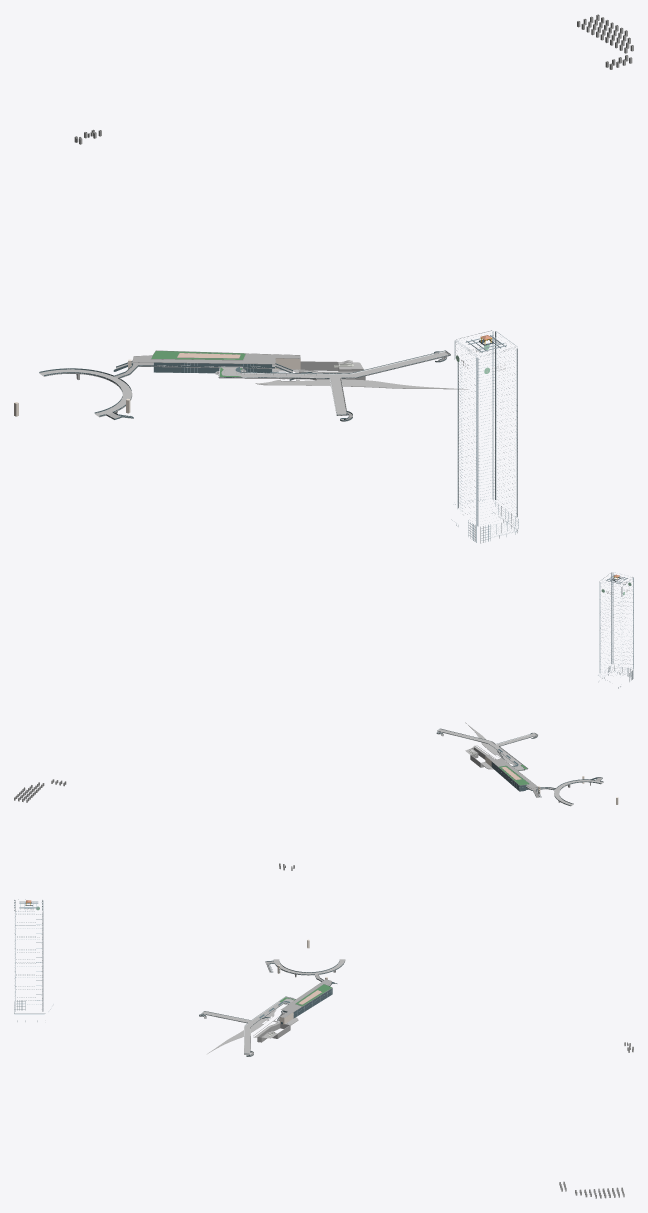
Rendered from lujiazui-17.glb.
3 renders of one model, top to bottom at view 1: azimuth 30°, elevation 25°; view 2: azimuth 150°, elevation 25°; view 3: azimuth 270°, elevation 25°, orthographic. The views are drawn at different scales.
Parts seen in each view (by area): view 1: source_2997_Mat3d66-1303573-2119-613_part0, source_3029_Mat3d66-1303573-289-6904_part0, source_3023_Mat3d66-1303573-326-7287_part0, source_3030_Mat3d66-1303573-306-9553_part0, source_3017_Mat3d66-1303573-310-455_part0, source_3020_Mat3d66-1303573-306-9553_part0, source_3027_不锈刚_part0; view 2: source_2997_Mat3d66-1303573-2119-613_part0, source_3023_Mat3d66-1303573-326-7287_part0, source_3029_Mat3d66-1303573-289-6904_part0, source_3030_Mat3d66-1303573-306-9553_part0; view 3: source_2997_Mat3d66-1303573-2119-613_part0, source_3023_Mat3d66-1303573-326-7287_part0, source_3029_Mat3d66-1303573-289-6904_part0, source_3030_Mat3d66-1303573-306-9553_part0.
Part boxes in pixels (x1,y1,x2,y2): source_2997_Mat3d66-1303573-2119-613_part0: (451,330,518,543); source_3029_Mat3d66-1303573-289-6904_part0: (39,350,448,421); source_3023_Mat3d66-1303573-326-7287_part0: (40,352,448,416); source_3030_Mat3d66-1303573-306-9553_part0: (39,350,450,421); source_3017_Mat3d66-1303573-310-455_part0: (255,379,468,389); source_3020_Mat3d66-1303573-306-9553_part0: (154,362,271,373); source_3027_不锈刚_part0: (215,351,450,415); source_2997_Mat3d66-1303573-2119-613_part0: (598,572,633,688); source_3023_Mat3d66-1303573-326-7287_part0: (439,729,602,805); source_3029_Mat3d66-1303573-289-6904_part0: (437,732,603,806); source_3030_Mat3d66-1303573-306-9553_part0: (437,728,603,805); source_2997_Mat3d66-1303573-2119-613_part0: (14,899,53,1021); source_3023_Mat3d66-1303573-326-7287_part0: (203,959,344,1053); source_3029_Mat3d66-1303573-289-6904_part0: (199,959,345,1056); source_3030_Mat3d66-1303573-306-9553_part0: (199,960,344,1056).
Bounding box in the file's own units: 1007 × 229 × 1062.
